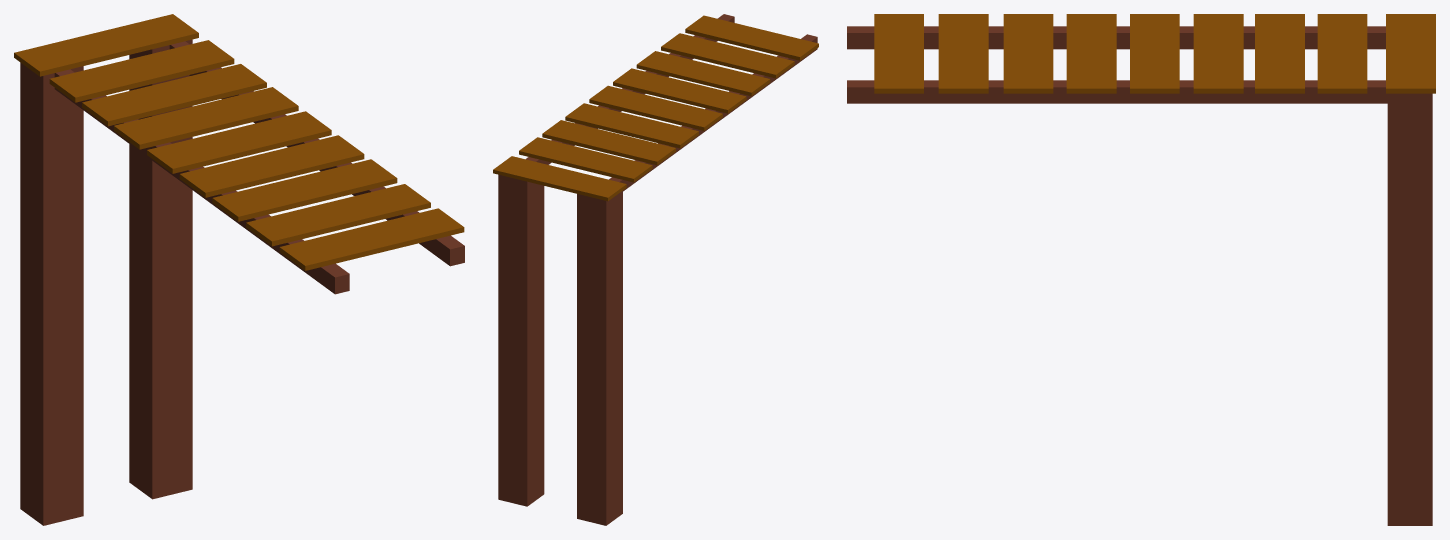
The model's file is Dock.fbx.
3 renders of one model, left to right at view 1: azimuth 30°, elevation 25°; view 2: azimuth 150°, elevation 25°; view 3: azimuth 270°, elevation 25°, orthographic. The views are drawn at different scales.
Visible parts, largest first — view 1: Cube.001, Cube, Cube.005, Cube.009, Cube.010, Cube.012, Cube.011, Cube.002, Cube.006, Cube.008, Cube.007, Cube.003 (+1 smaller); view 2: Cube, Cube.001, Cube.007, Cube.010, Cube.011, Cube.012, Cube.005, Cube.006, Cube.008, Cube.009, Cube.002, Cube.003 (+1 smaller); view 3: Cube, Cube.004, Cube.005, Cube.007, Cube.009, Cube.010, Cube.011, Cube.002, Cube.006, Cube.008, Cube.012, Cube.003.
Part boxes in pixels (x1,y1,x2,y2): Cube.001: (20, 62, 83, 525); Cube: (129, 39, 192, 499); Cube.005: (49, 40, 234, 102); Cube.009: (179, 135, 364, 197); Cube.010: (212, 159, 397, 221); Cube.012: (279, 208, 464, 270); Cube.011: (246, 184, 430, 246); Cube.002: (14, 14, 198, 76); Cube.006: (82, 64, 266, 126); Cube.008: (147, 111, 331, 173); Cube.007: (114, 87, 298, 149); Cube.003: (54, 69, 349, 294); Cube: (498, 174, 544, 506); Cube.001: (577, 191, 622, 525); Cube.007: (565, 103, 698, 148); Cube.010: (636, 51, 770, 96); Cube.011: (661, 33, 794, 78); Cube.012: (685, 15, 818, 60); Cube.005: (519, 137, 652, 182); Cube.006: (542, 120, 675, 165); Cube.008: (589, 85, 722, 130); Cube.009: (613, 68, 746, 113); Cube.002: (493, 156, 626, 201); Cube.003: (609, 34, 817, 191); Cube: (1387, 93, 1432, 525); Cube.004: (847, 80, 1387, 103); Cube.005: (1317, 14, 1367, 93); Cube.007: (1193, 14, 1243, 93); Cube.009: (1066, 14, 1116, 93); Cube.010: (1003, 14, 1053, 93); Cube.011: (938, 14, 988, 93); Cube.002: (1386, 14, 1435, 93); Cube.006: (1255, 14, 1304, 93); Cube.008: (1130, 14, 1179, 93); Cube.012: (874, 14, 923, 93); Cube.003: (847, 26, 1385, 49).
Bounding box in the file's own units: 789 × 2165 × 2628.
